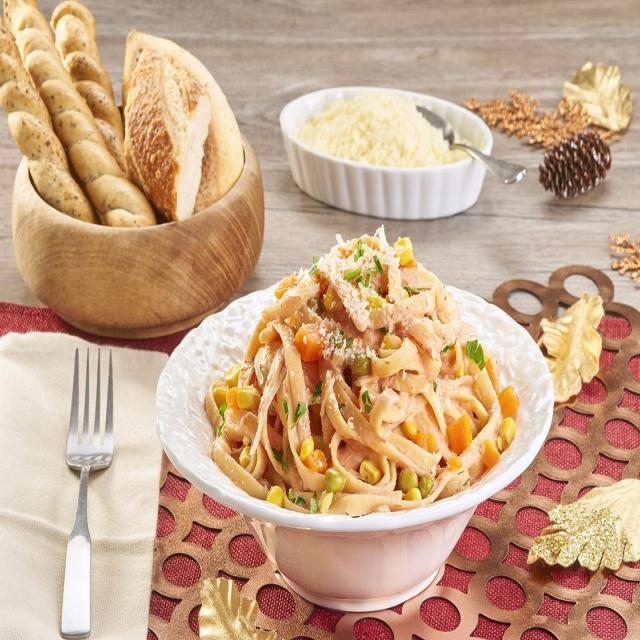pasta: (197, 241, 518, 516)
